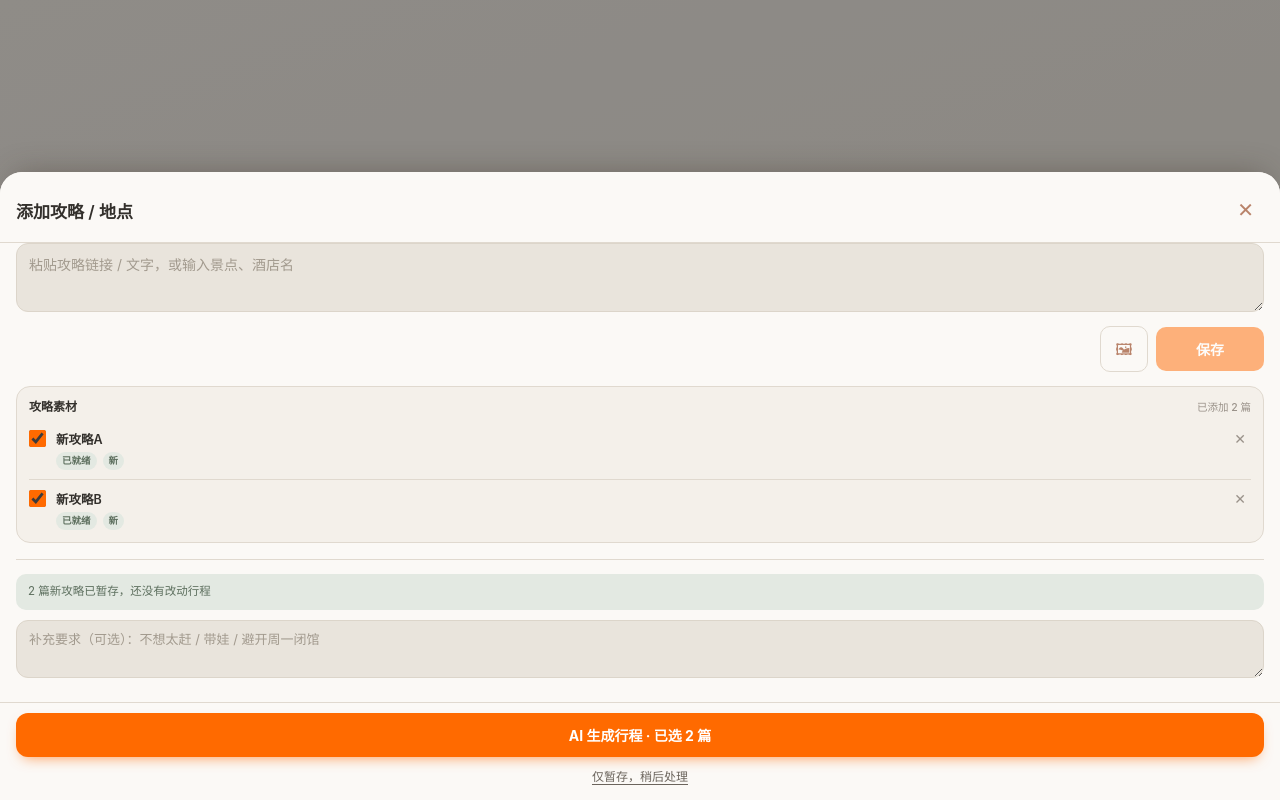
Test: NoteInput 攻略勾选 → 底部 CTA（Task #236） › 新攻略默认暂存且默认勾选：列表受控，CTA 篇数随勾选变化并真实携带 sourceIds
Later steps or results of the test are not shown.
Expected: the button "AI 生成行程 · 已选 2 篇" is enabled, [16, 713, 1264, 757]
Expected: the checkbox named "选择攻略 新攻略B" is checked, [29, 490, 46, 507]
// 取消勾选一篇：CTA 与请求体同步收敛
Click the checkbox named "选择攻略 新攻略A" at (38, 439), box [29, 430, 46, 447]
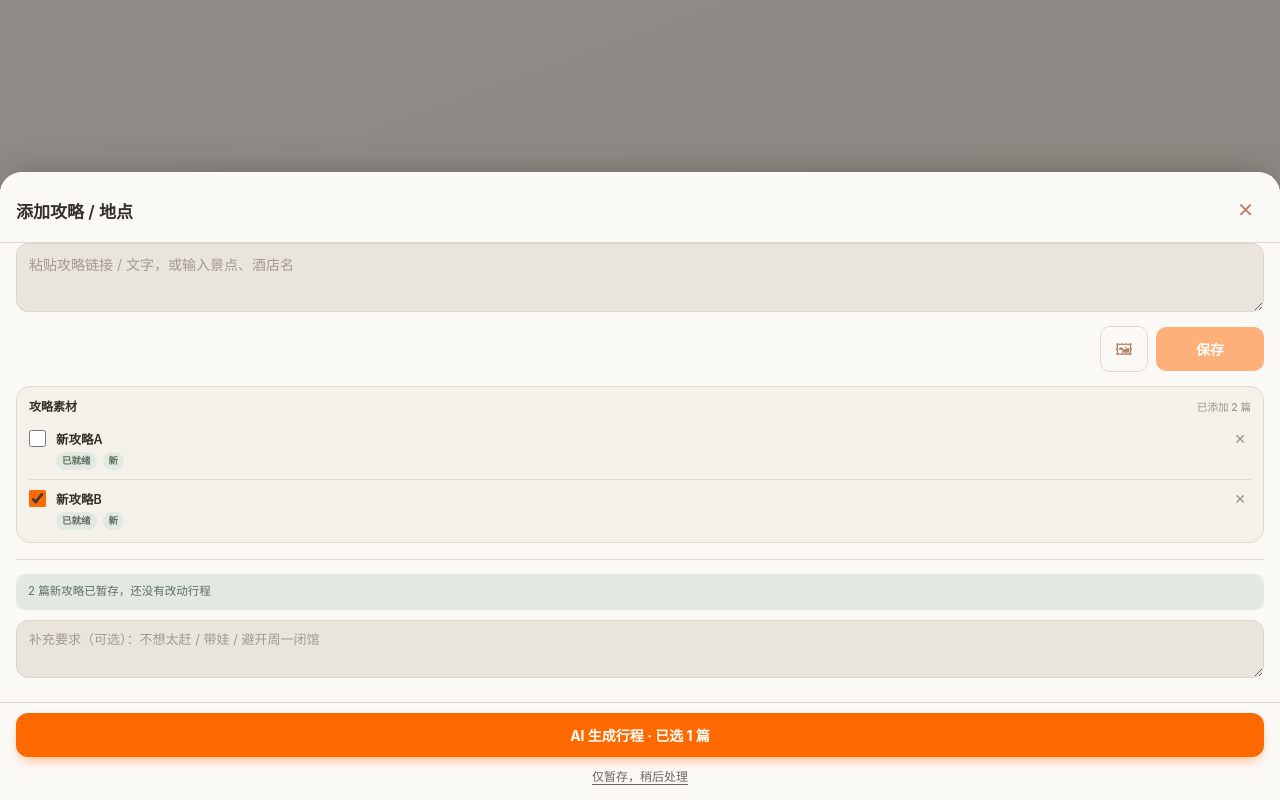
Expected: the button "AI 生成行程 · 已选 1 篇" is enabled, [16, 713, 1264, 757]
Expected: the checkbox named "选择攻略 新攻略A" is not checked, [29, 430, 46, 447]
